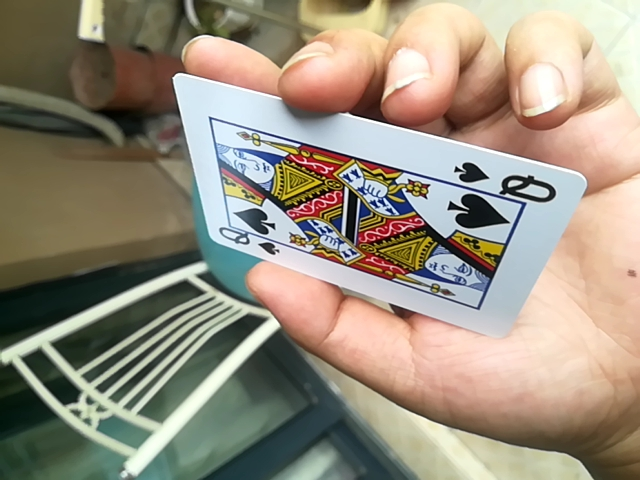ht q: (170, 73, 590, 338)
